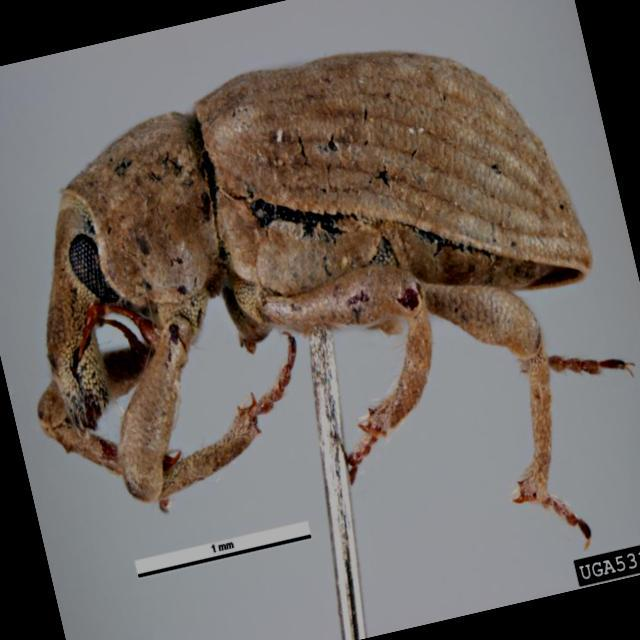ricebug: (38, 52, 628, 538)
